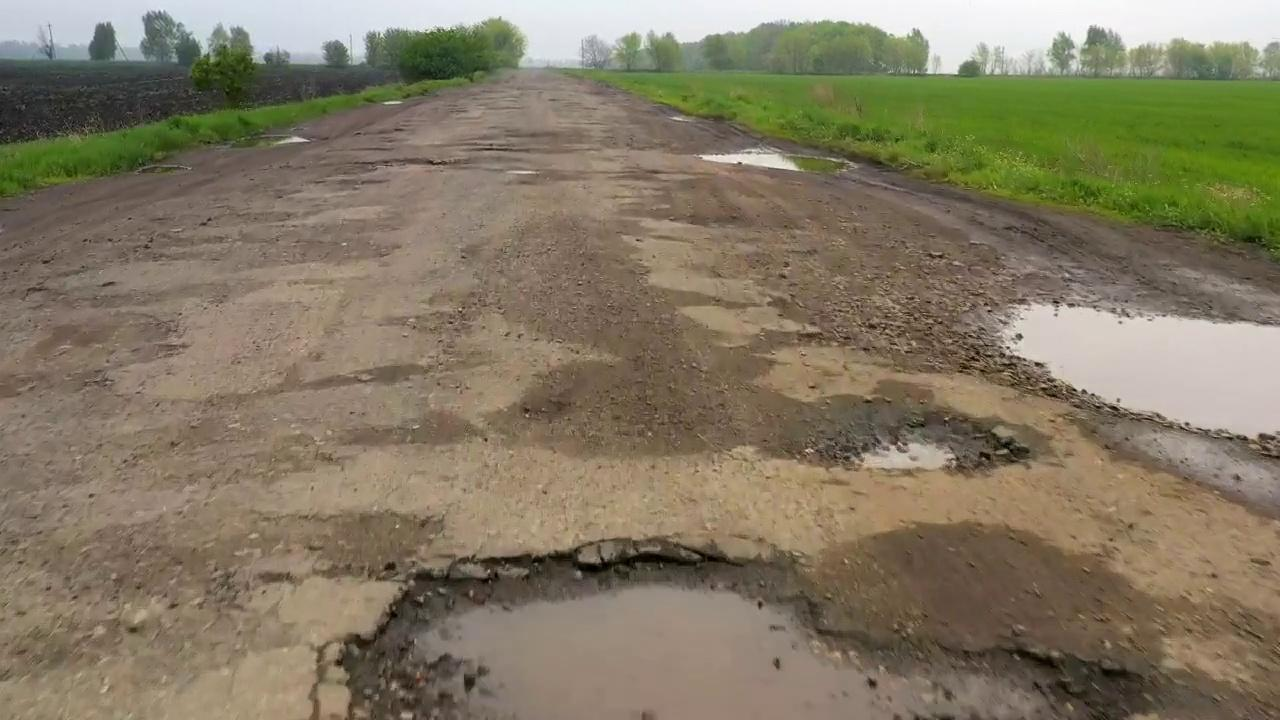bache: (321, 538, 1131, 719), (1004, 304, 1279, 436), (766, 395, 1030, 473)
